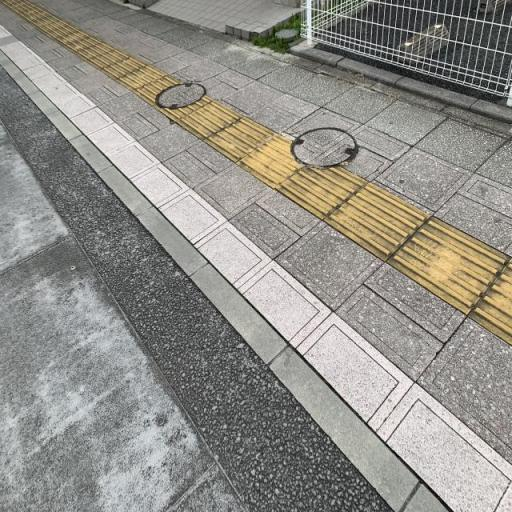line: (385, 215, 511, 317), (324, 181, 433, 262), (277, 165, 368, 220), (236, 133, 304, 191), (204, 117, 276, 163), (176, 99, 244, 141)
